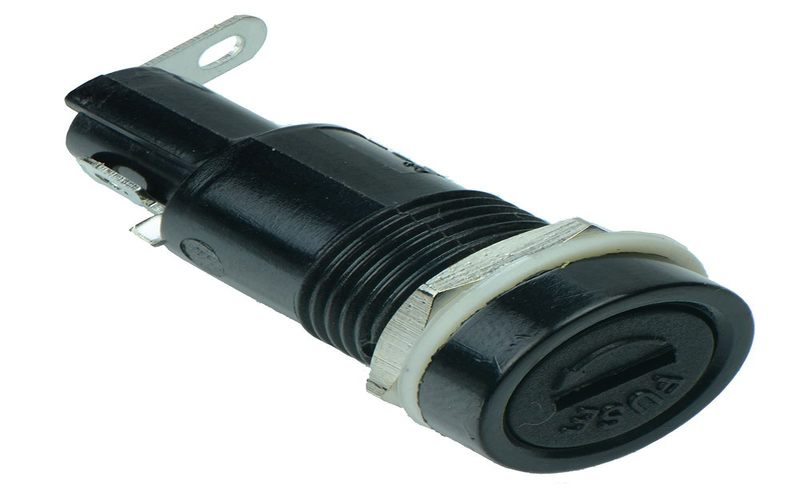Switches: (25, 18, 755, 473)
